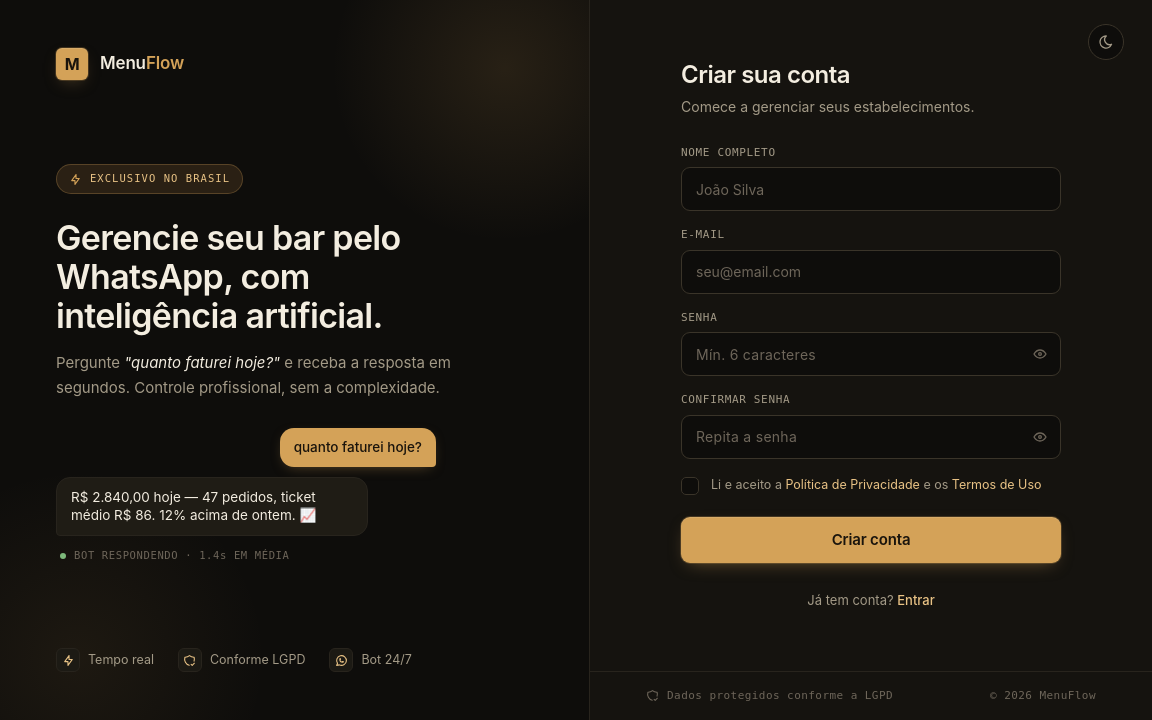
it: Register — validação › exibe erro quando nome está vazio
Type "joao@test.com" into the field with test id "input-email" at [871, 272], box [682,251,1060,293]
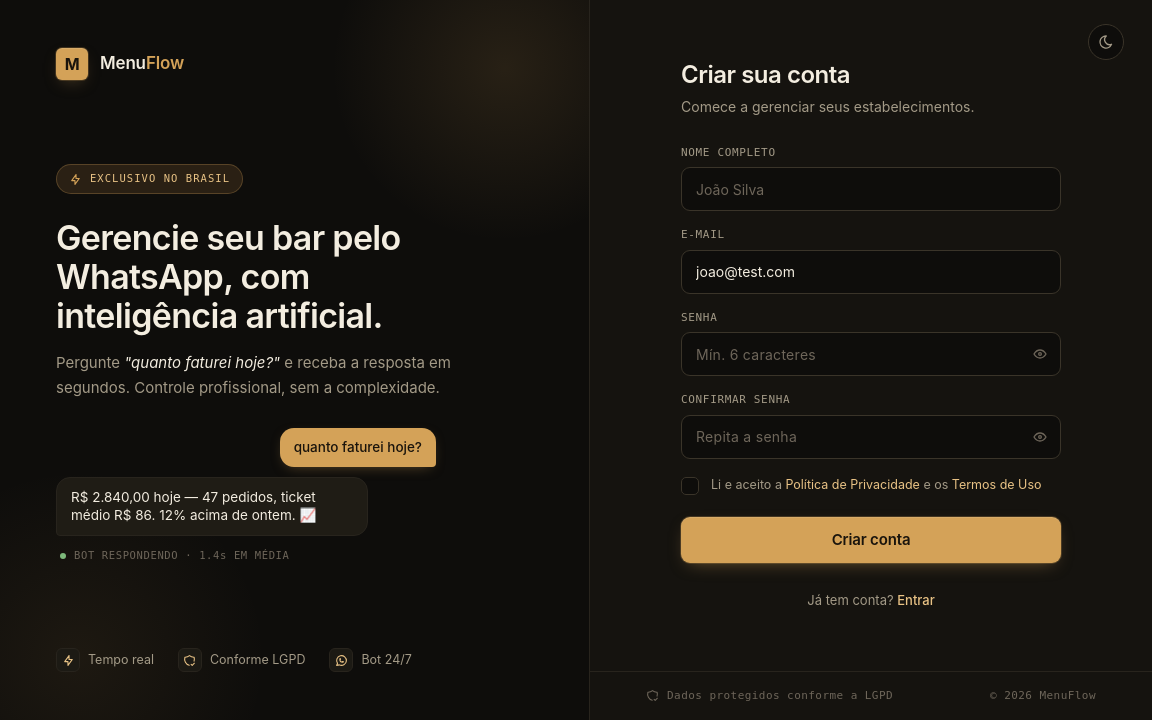
Type "123456" into the password field with test id "input-password" at [871, 354], box [682,333,1060,375]
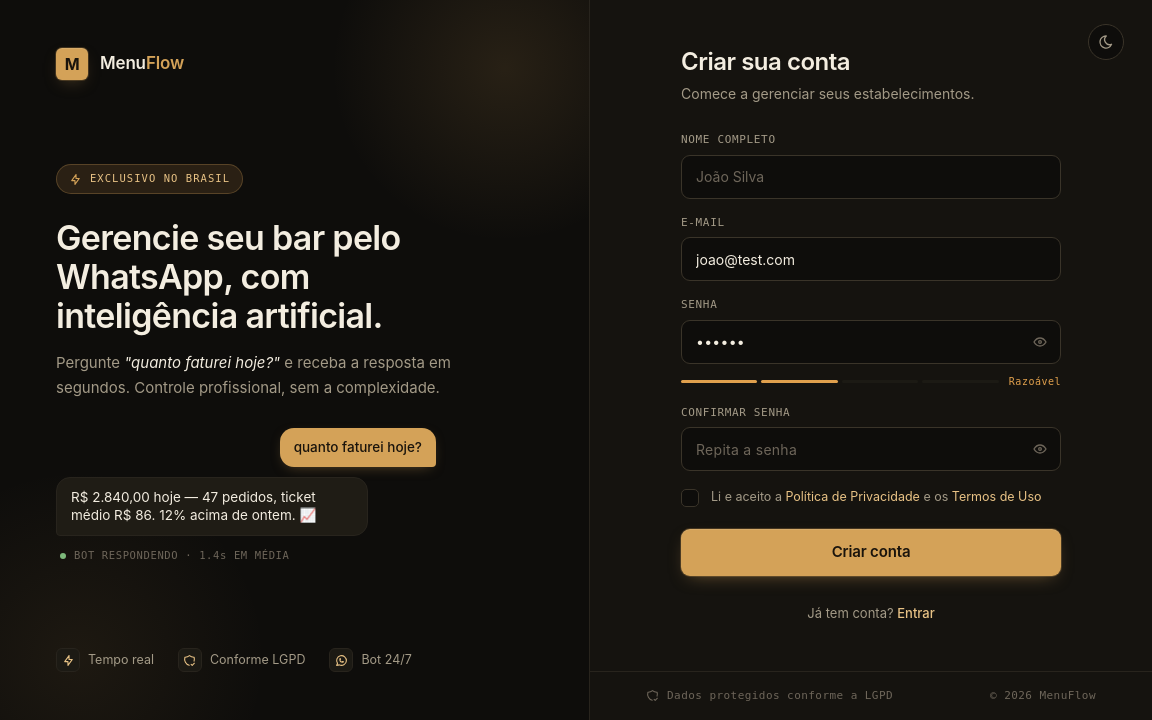
Type "123456" into the password field with test id "input-confirm-password" at [871, 449], box [682,428,1060,470]
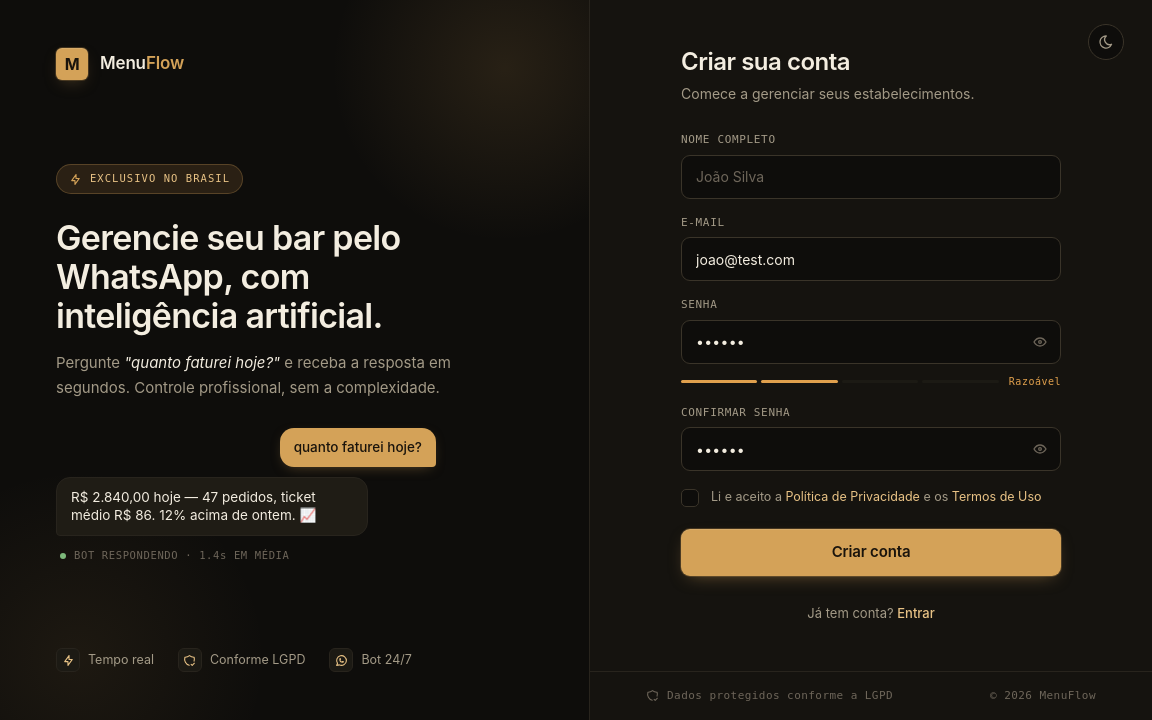
Click the button with test id "btn-signup" at [871, 553], box [681,529,1061,576]
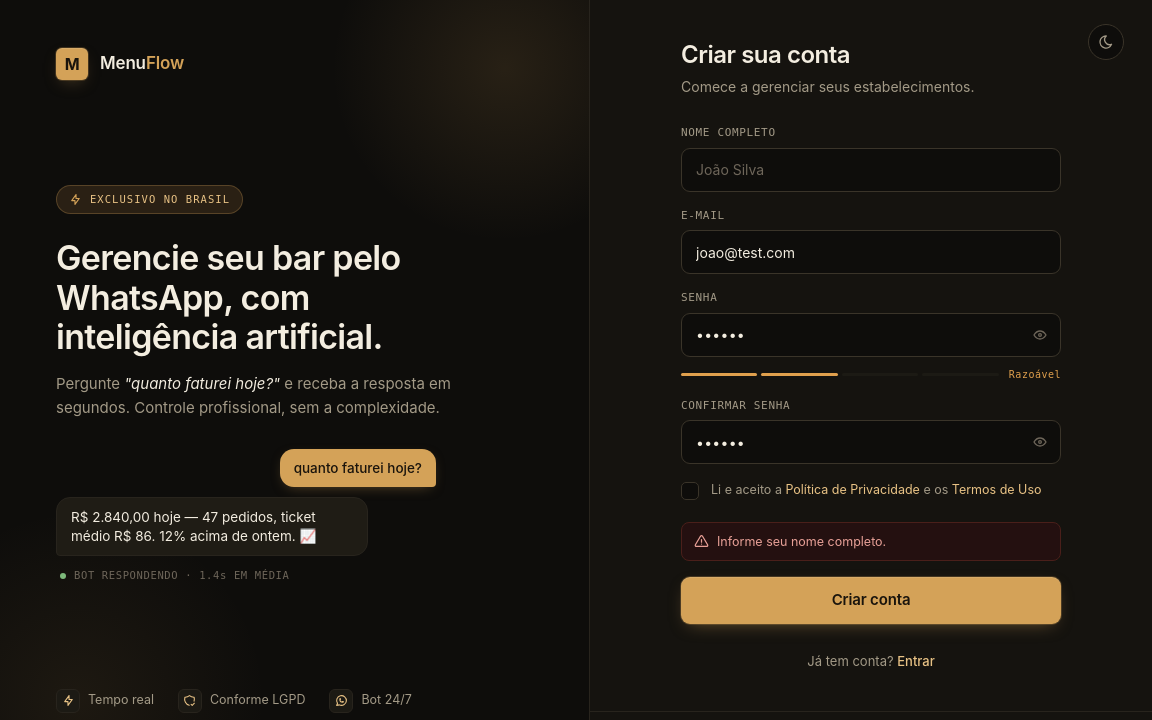
Now the element with test id "error-message" is shown, box [681,522,1061,561]
